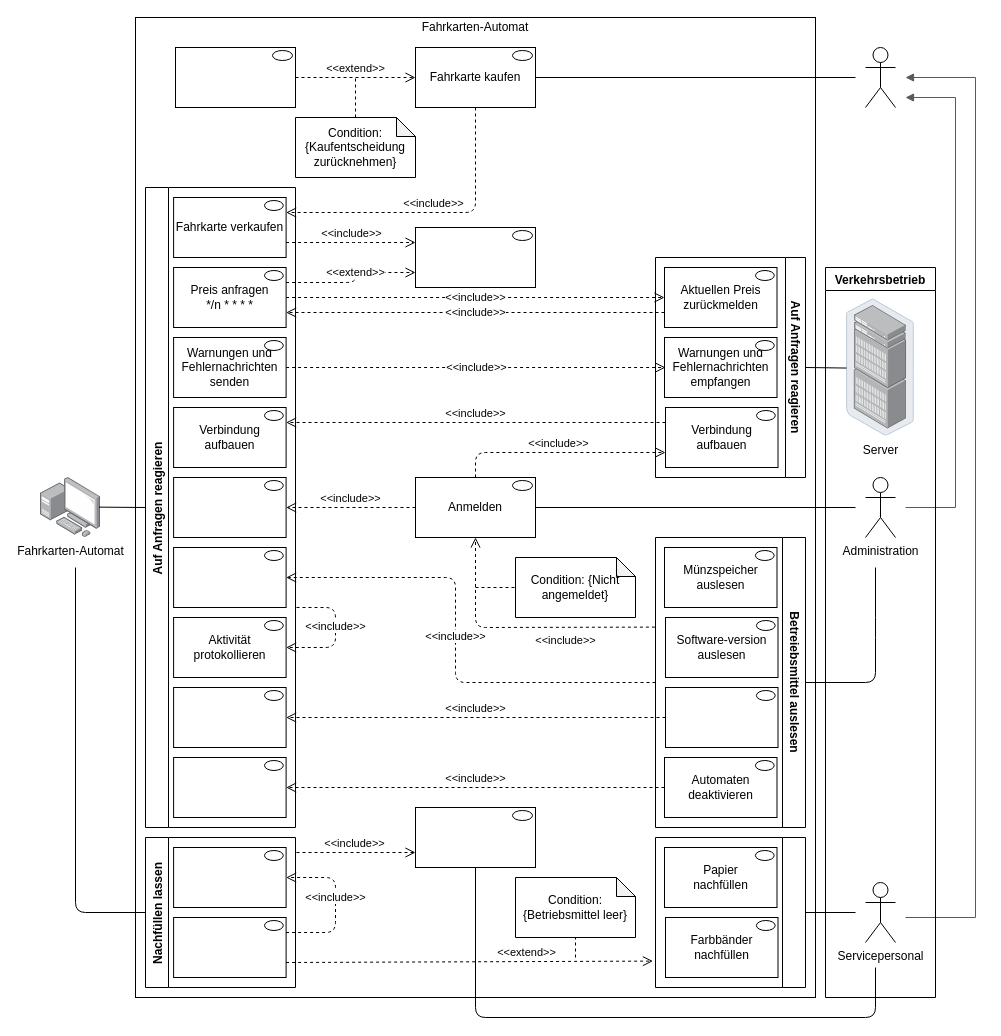
The diagram is 1001 pixels wide and 1036 high, and some of its shapes have lost their labels. Each missing label, with the centre of its shape:
Anmeldung zulassen: the point at 229,507
Ausschalten: the point at 229,787
Automaten öffnen: the point at 229,877
Betreiebsmittel nachfüllen: the point at 730,912
Betriebsmittel mitteilen: the point at 229,577
Betriebsmittel nachfüllen lassen: the point at 229,947
Kauf abbrechen: the point at 235,77
Kunde: the point at 880,77
Müll / Leere Betriebsmittelbehälter entsorgen: the point at 475,837
Preis verlangen: the point at 475,257
Protokoll auslesen: the point at 721,717
Protokoll mitteilen: the point at 229,717
